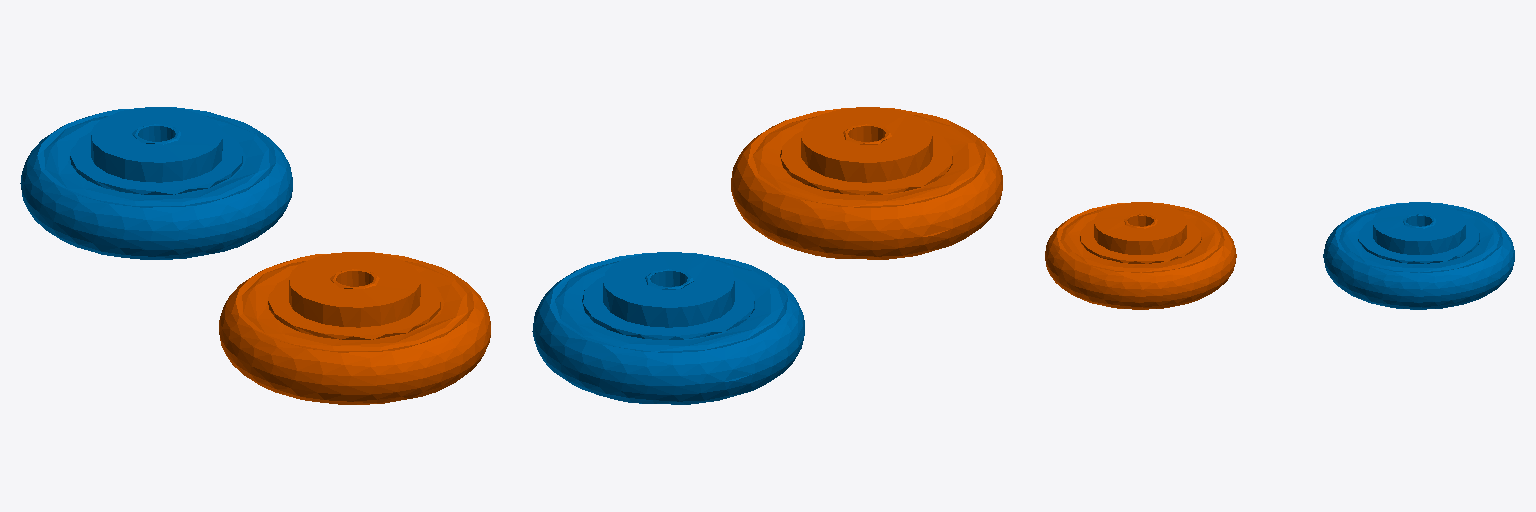
URDF robot description (turtlebot):
<?xml version="1.0" ?>
<!-- =================================================================================== -->
<!-- |    This document was autogenerated by xacro from robots/kobuki_hexagons_kinect.urdf.xacro | -->
<!-- |    EDITING THIS FILE BY HAND IS NOT RECOMMENDED                                 | -->
<!-- =================================================================================== -->
<!--
    - Base      : kobuki
    - Stacks    : hexagons
    - 3d Sensor : kinect
-->
<robot name="turtlebot" xmlns:controller="http://playerstage.sourceforge.net/gazebo/xmlschema/#controller" xmlns:interface="http://playerstage.sourceforge.net/gazebo/xmlschema/#interface" xmlns:sensor="http://playerstage.sourceforge.net/gazebo/xmlschema/#sensor" xmlns:xacro="http://ros.org/wiki/xacro">

  <link name="world_link"/>
  <link name="base_link_0"/>
  <link name="base_link_1"/>
  <joint name="x" type="prismatic">
    <limit lower="-5" upper="5"/>
    <parent link="world_link"/>
    <child link="base_link_0"/>
    <axis xyz="1 0 0"/>
  </joint>
  <joint name="y" type="prismatic">
    <limit lower="-5" upper="5"/>
    <parent link="base_link_0"/>
    <child link="base_link_1"/>
    <axis xyz="0 1 0"/>
  </joint>
  <joint name="theta" type="continuous">
    <parent link="base_link_1"/>
    <child link="base_link"/>
    <axis xyz="0 0 1"/>
  </joint>
  <link name="base_link">
    <visual>
      <geometry>
        <!-- new mesh -->
        <mesh filename="kobuki_description/meshes/main_body.dae"/>
      </geometry>
      <origin rpy="0 0 0" xyz="0.001 0 0.05199"/>
    </visual>
    <collision>
      <geometry>
        <cylinder length="0.10938" radius="0.176"/>
      </geometry>
      <origin rpy="0 0 0" xyz="0.0 0 0.05949"/>
    </collision>
    <inertial>
      <mass value="2.4"/>
      <!-- 2.4/2.6 kg for small/big battery pack -->
      <origin xyz="0 0 0"/>
      <inertia ixx="0.0001" ixy="0.0" ixz="0.0" iyy="0.0001" iyz="0.0" izz="0.0001"/>
    </inertial>
  </link>
  <joint name="wheel_left_joint" type="continuous">
    <parent link="base_link"/>
    <child link="wheel_left_link"/>
    <origin rpy="-1.57079632679 0 0" xyz="0.00 0.115 0.0250"/>
    <axis xyz="0 0 1"/>
  </joint>
  <link name="wheel_left_link">
    <visual>
      <geometry>
        <mesh filename="kobuki_description/meshes/wheel.dae"/>
      </geometry>
      <origin rpy="0 0 0" xyz="0 0 0"/>
    </visual>
    <collision>
      <geometry>
        <cylinder length="0.0206" radius="0.0352"/>
      </geometry>
      <origin rpy="0 0 0" xyz="0 0 0"/>
    </collision>
     <inertial>
      <mass value="0.1"/>
      <origin xyz="0 0 0"/>
      <inertia ixx="0.01" ixy="0.0" ixz="0.0" iyy="0.01" iyz="0.0" izz="0.01"/>
    </inertial>
     <contact>
      <lateral_friction value="1.0"/>
      <rolling_friction value="0.0"/>
      <stiffness value="30000"/>
      <damping value="1000"/>
    </contact>
  </link>
  <joint name="wheel_right_joint" type="continuous">
    <parent link="base_link"/>
    <child link="wheel_right_link"/>
    <origin rpy="-1.57079632679 0 0" xyz="0.00 -0.115 0.0250"/>
    <axis xyz="0 0 1"/>
  </joint>
  <link name="wheel_right_link">
    <visual>
      <geometry>
        <mesh filename="kobuki_description/meshes/wheel.dae"/>
      </geometry>
      <origin rpy="0 0 0" xyz="0 0 0"/>
    </visual>
    <collision>
      <geometry>
        <cylinder length="0.0206" radius="0.0350"/>
      </geometry>
      <origin rpy="0 0 0" xyz="0 0 0"/>
    </collision>
   <inertial>
      <mass value="0.1"/>
      <origin xyz="0 0 0"/>
      <inertia ixx="0.01" ixy="0.0" ixz="0.0" iyy="0.01" iyz="0.0" izz="0.01"/>
    </inertial>
   	<contact>
      <lateral_friction value="1.0"/>
      <rolling_friction value="0.0"/>
      <stiffness value="30000"/>
      <damping value="10000"/>
    </contact>

  </link>
  <joint name="caster_front_joint" type="fixed">
    <parent link="base_link"/>
    <child link="caster_front_link"/>
    <origin rpy="-1.57079632679 0 0" xyz="0.115 0.0 0.007"/>
  </joint>
  <link name="caster_front_link">
    <collision>
      <geometry>
        <cylinder length="0.0176" radius="0.017"/>
      </geometry>
      <origin rpy="0 0 0" xyz="0 0 0"/>
    </collision>
    <inertial>
      <mass value="0.01"/>
      <origin xyz="0 0 0"/>
      <inertia ixx="0.001" ixy="0.0" ixz="0.0" iyy="0.001" iyz="0.0" izz="0.001"/>
    </inertial>
    <contact>
      <lateral_friction value="0.0"/>
      <rolling_friction value="0.0"/>
      <stiffness value="30000"/>
      <damping value="10000"/>
    </contact>
  </link>
  <joint name="caster_back_joint" type="fixed">
    <parent link="base_link"/>
    <child link="caster_back_link"/>
    <origin rpy="-1.57079632679 0 0" xyz="-0.135 0.0 0.009"/>
  </joint>
  <link name="caster_back_link">
    <collision>
      <geometry>
        <cylinder length="0.0176" radius="0.017"/>
      </geometry>
      <origin rpy="0 0 0" xyz="0 0 0"/>
    </collision>
    <inertial>
      <mass value="0.01"/>
      <origin xyz="0 0 0"/>
      <inertia ixx="0.001" ixy="0.0" ixz="0.0" iyy="0.001" iyz="0.0" izz="0.001"/>
    </inertial>
    <contact>
      <lateral_friction value="0.0"/>
      <rolling_friction value="0.0"/>
      <stiffness value="30000"/>
      <damping value="1000"/>
    </contact>
  </link>
  <joint name="gyro_joint" type="fixed">
    <axis xyz="0 1 0"/>
    <origin rpy="0 0 0" xyz="0.056 0.062 0.0202"/>
    <parent link="base_link"/>
    <child link="gyro_link"/>
  </joint>
  <link name="gyro_link">
    <inertial>
      <mass value="0.001"/>
      <origin rpy="0 0 0" xyz="0 0 0"/>
      <inertia ixx="0.0001" ixy="0" ixz="0" iyy="0.000001" iyz="0" izz="0.0001"/>
    </inertial>
  </link>
  <joint name="cliff_sensor_left_joint" type="fixed">
    <origin rpy="0 1.57079632679 0" xyz="0.08734 0.13601 0.0214"/>
    <parent link="base_link"/>
    <child link="cliff_sensor_left_link"/>
  </joint>
  <link name="cliff_sensor_left_link">
    <inertial>
      <mass value="0.0001"/>
      <origin xyz="0 0 0"/>
      <inertia ixx="0.0001" ixy="0.0" ixz="0.0" iyy="0.0001" iyz="0.0" izz="0.0001"/>
    </inertial>
  </link>
  <joint name="cliff_sensor_right_joint" type="fixed">
    <origin rpy="0 1.57079632679 0" xyz="0.085 -0.13601 0.0214"/>
    <parent link="base_link"/>
    <child link="cliff_sensor_right_link"/>
  </joint>
  <link name="cliff_sensor_right_link">
    <inertial>
      <mass value="0.0001"/>
      <origin xyz="0 0 0"/>
      <inertia ixx="0.0001" ixy="0.0" ixz="0.0" iyy="0.0001" iyz="0.0" izz="0.0001"/>
    </inertial>
  </link>
  <joint name="cliff_sensor_front_joint" type="fixed">
    <origin rpy="0 1.57079632679 0" xyz="0.156 0.00 0.0214"/>
    <parent link="base_link"/>
    <child link="cliff_sensor_front_link"/>
  </joint>
  <link name="cliff_sensor_front_link">
    <inertial>
      <mass value="0.0001"/>
      <origin xyz="0 0 0"/>
      <inertia ixx="0.0001" ixy="0.0" ixz="0.0" iyy="0.0001" iyz="0.0" izz="0.0001"/>
    </inertial>
  </link>
  <gazebo>
    <controller:gazebo_ros_kobuki name="kobuki_controller" plugin="libgazebo_ros_kobuki.so">
      <left_wheel_joint_name>wheel_left_joint</left_wheel_joint_name>
      <right_wheel_joint_name>wheel_right_joint</right_wheel_joint_name>
      <wheel_separation>.230</wheel_separation>
      <wheel_diameter>0.070</wheel_diameter>
      <torque>1.0</torque>
      <velocity_command_timeout>0.6</velocity_command_timeout>
      <cliff_sensor_left_name>cliff_sensor_left</cliff_sensor_left_name>
      <cliff_sensor_front_name>cliff_sensor_front</cliff_sensor_front_name>
      <cliff_sensor_right_name>cliff_sensor_right</cliff_sensor_right_name>
      <cliff_detection_threshold>0.04</cliff_detection_threshold>
      <bumper_name>bumpers</bumper_name>
      <base_collision_model_link>base_link</base_collision_model_link>
    </controller:gazebo_ros_kobuki>
  </gazebo>
  <gazebo reference="wheel_left_link">
    <mu1 value="10"/>
    <mu2 value="10"/>
    <kp value="100000000.0"/>
    <kd value="10000.0"/>
  </gazebo>
  <gazebo reference="wheel_right_link">
    <mu1 value="10"/>
    <mu2 value="10"/>
    <kp value="100000000.0"/>
    <kd value="10000.0"/>
  </gazebo>
  <gazebo reference="caster_front_link">
    <mu1 value="0"/>
    <mu2 value="0"/>
    <kp value="100000000.0"/>
    <kd value="10000.0"/>
  </gazebo>
  <gazebo reference="caster_back_link">
    <mu1 value="0"/>
    <mu2 value="0"/>
    <kp value="100000000.0"/>
    <kd value="10000.0"/>
  </gazebo>
  <gazebo reference="base_link">
    <sensor:contact name="bumpers">
      <geom>base_footprint_geom_base_link</geom>
      <topic>bumpers</topic>
      <alwaysOn>true</alwaysOn>
      <updateRate>50</updateRate>
    </sensor:contact>
  </gazebo>
  <gazebo reference="cliff_sensor_left_link">
    <sensor:ray name="cliff_sensor_left">
      <alwaysOn>true</alwaysOn>
      <updateRate>50</updateRate>
      <rayCount>50</rayCount>
      <rangeCount>1</rangeCount>
      <resRange>1.0</resRange>
      <minAngle>-0.04361</minAngle>
      <maxAngle>0.04361</maxAngle>
      <minRange>0.01</minRange>
      <maxRange>0.15</maxRange>
      <displayRays>true</displayRays>
    </sensor:ray>
  </gazebo>
  <gazebo reference="cliff_sensor_right_link">
    <sensor:ray name="cliff_sensor_right">
      <alwaysOn>true</alwaysOn>
      <updateRate>50</updateRate>
      <rayCount>50</rayCount>
      <rangeCount>1</rangeCount>
      <resRange>1.0</resRange>
      <minAngle>-2.5</minAngle>
      <maxAngle>2.5</maxAngle>
      <minRange>0.01</minRange>
      <maxRange>0.15</maxRange>
      <displayRays>true</displayRays>
    </sensor:ray>
  </gazebo>
  <gazebo reference="cliff_sensor_front_link">
    <sensor:ray name="cliff_sensor_front">
      <alwaysOn>true</alwaysOn>
      <updateRate>50</updateRate>
      <rayCount>50</rayCount>
      <rangeCount>1</rangeCount>
      <resRange>1.0</resRange>
      <minAngle>-2.5</minAngle>
      <maxAngle>2.5</maxAngle>
      <minRange>0.01</minRange>
      <maxRange>0.15</maxRange>
      <displayRays>true</displayRays>
    </sensor:ray>
  </gazebo>
  <gazebo>
    <controller:gazebo_ros_imu name="imu_controller" plugin="libgazebo_ros_imu.so">
      <alwaysOn>true</alwaysOn>
      <updateRate>50</updateRate>
      <bodyName>gyro_link</bodyName>
      <topicName>/mobile_base/sensors/imu_data</topicName>
      <gaussianNoise>2.89e-06</gaussianNoise>
      <xyzOffsets>0 0 0</xyzOffsets>
      <rpyOffsets>0 0 0</rpyOffsets>
      <interface:position name="gyro_link"/>
    </controller:gazebo_ros_imu>
  </gazebo>
</robot>

--- Facts derived from the render (not from the file) ---
Views: 3 orthographic renders of the robot side by side, from view 1: azimuth 30°, elevation 25°; view 2: azimuth 150°, elevation 25°; view 3: azimuth 270°, elevation 25°.
Robot: turtlebot — 12 links, 11 joints (3 continuous, 2 prismatic, 6 fixed); root link world_link; default pose: all joints at 0.
Links seen in each view (by area): view 1: wheel_right_link, wheel_left_link; view 2: wheel_left_link, wheel_right_link; view 3: wheel_right_link, wheel_left_link.
Link boxes in pixels (<box>): wheel_right_link: <box>219,252,490,404</box>; wheel_left_link: <box>20,107,292,259</box>; wheel_left_link: <box>532,252,804,404</box>; wheel_right_link: <box>731,107,1002,259</box>; wheel_right_link: <box>1045,202,1236,309</box>; wheel_left_link: <box>1323,202,1514,309</box>.
Bounding box of the posed robot: 0.1588 × 0.3888 × 0.0517 m (x, y, z).
2 mesh visuals loaded from 2 distinct referenced files (1 Collada DAE); not drawn: 1 (reference not matched to a file when rendering).